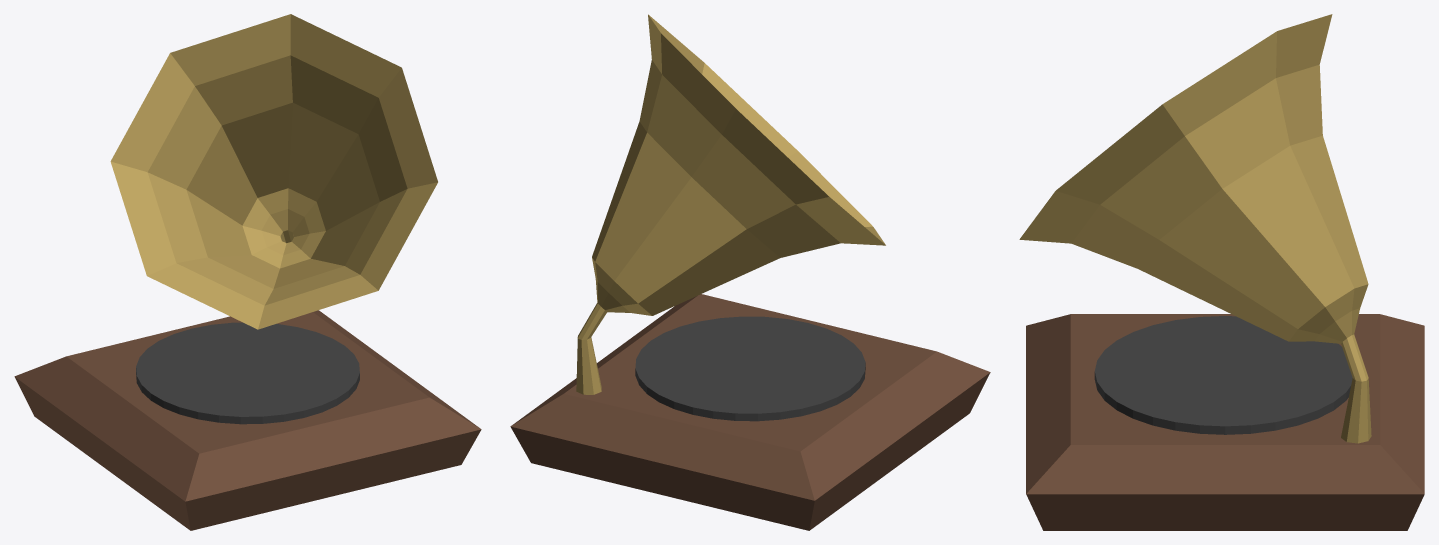
Rendered from pickup.glb.
The picture shows the model from 3 angles, left to right: view 1: azimuth 30°, elevation 25°; view 2: azimuth 150°, elevation 25°; view 3: azimuth 270°, elevation 25°; orthographic projection. The views are drawn at different scales.
Parts seen in each view (by area): view 1: PickUp, Base, Disc; view 2: Base, PickUp, Disc; view 3: PickUp, Base, Disc.
Part boxes in pixels (x1,y1,x2,y2): PickUp: (110, 14, 437, 329); Base: (14, 310, 481, 530); Disc: (136, 322, 359, 424); Base: (510, 294, 990, 530); PickUp: (576, 14, 885, 394); Disc: (635, 316, 865, 421); PickUp: (1019, 14, 1371, 443); Base: (1026, 314, 1424, 530); Disc: (1094, 316, 1352, 434).
Bounding box in the file's own units: 2.19 × 2.79 × 2.23.
